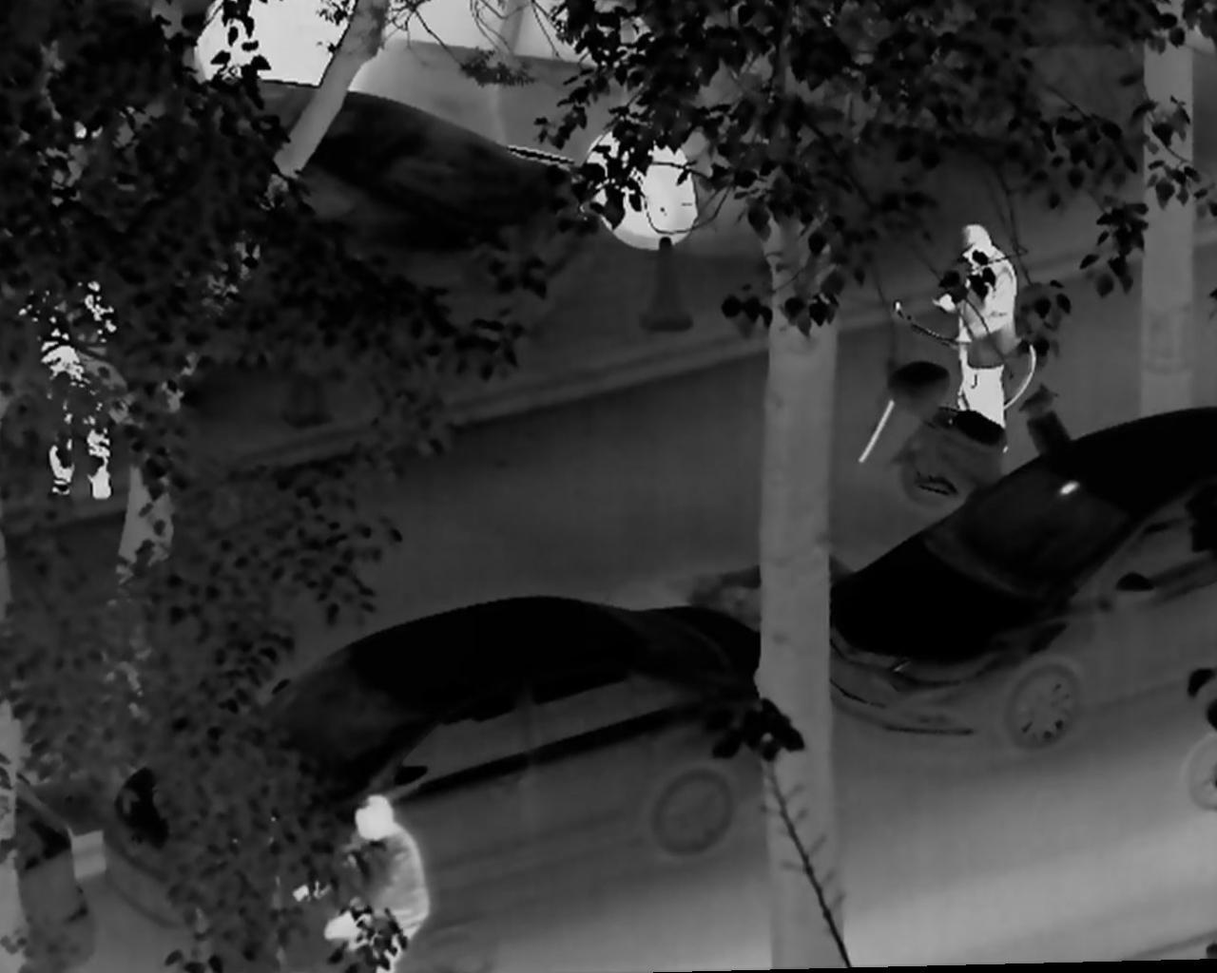person: (20, 256, 124, 502), (291, 792, 432, 969), (924, 220, 1021, 459)
